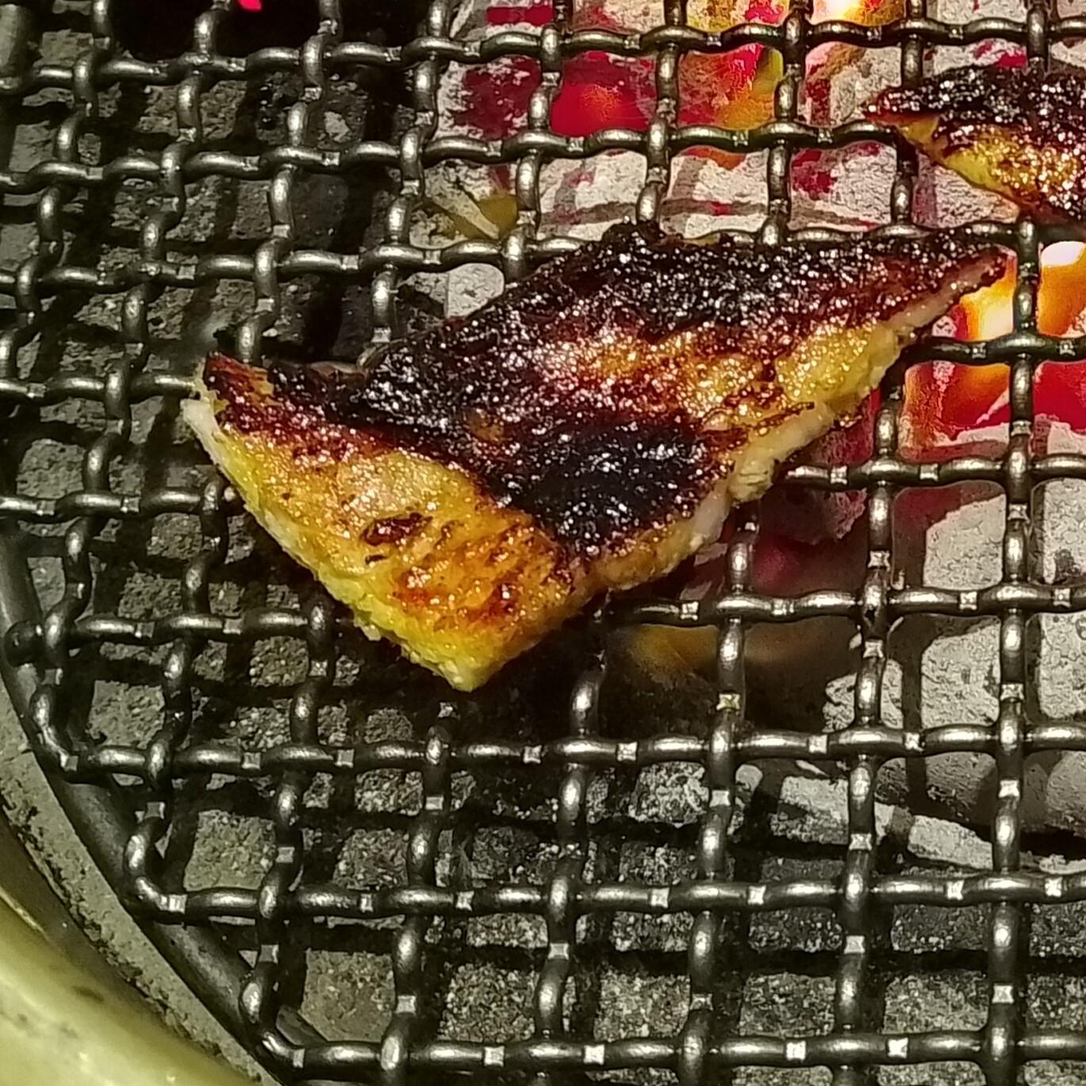Overcooked: (182, 225, 1007, 691)
